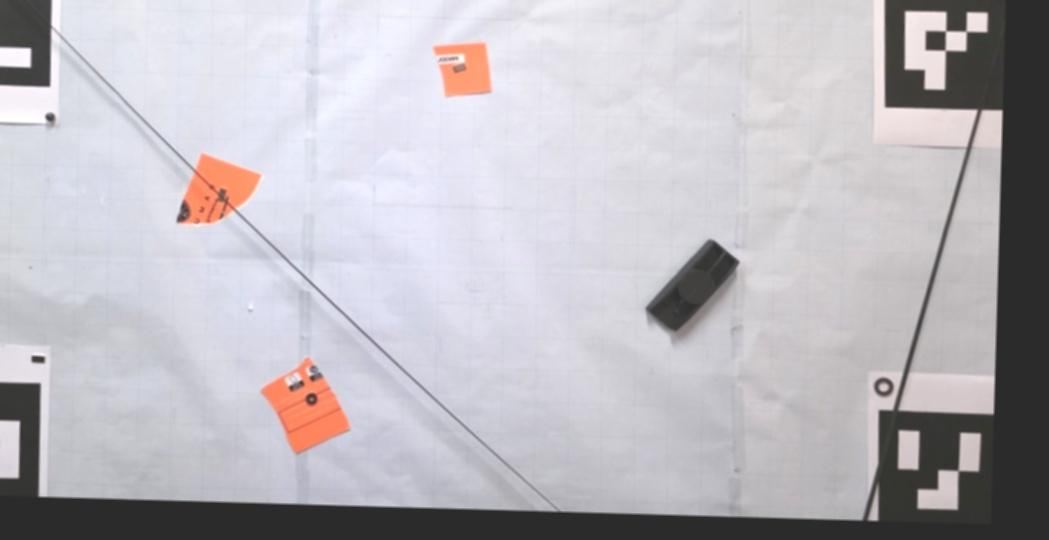obstacle: (259, 357, 349, 455), (647, 238, 739, 332), (176, 152, 261, 225), (433, 42, 492, 97)
